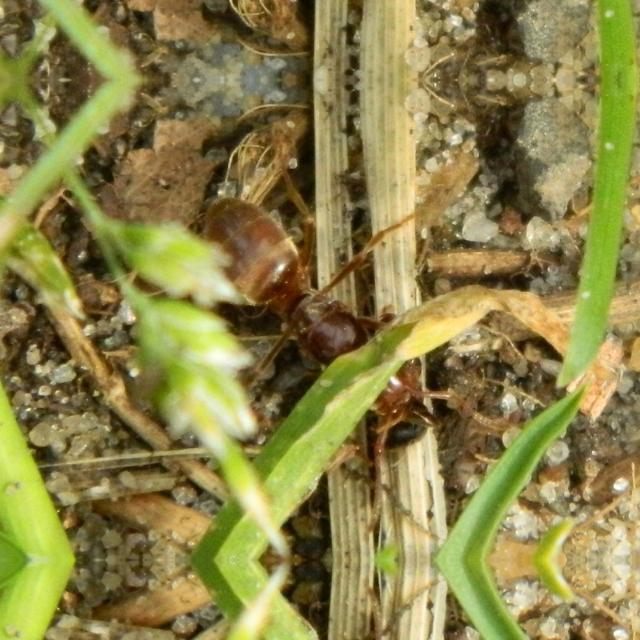Lasius: (172, 174, 430, 450)
